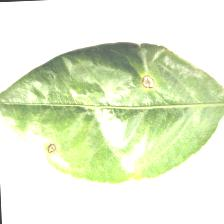canker: (38, 75, 164, 164)
